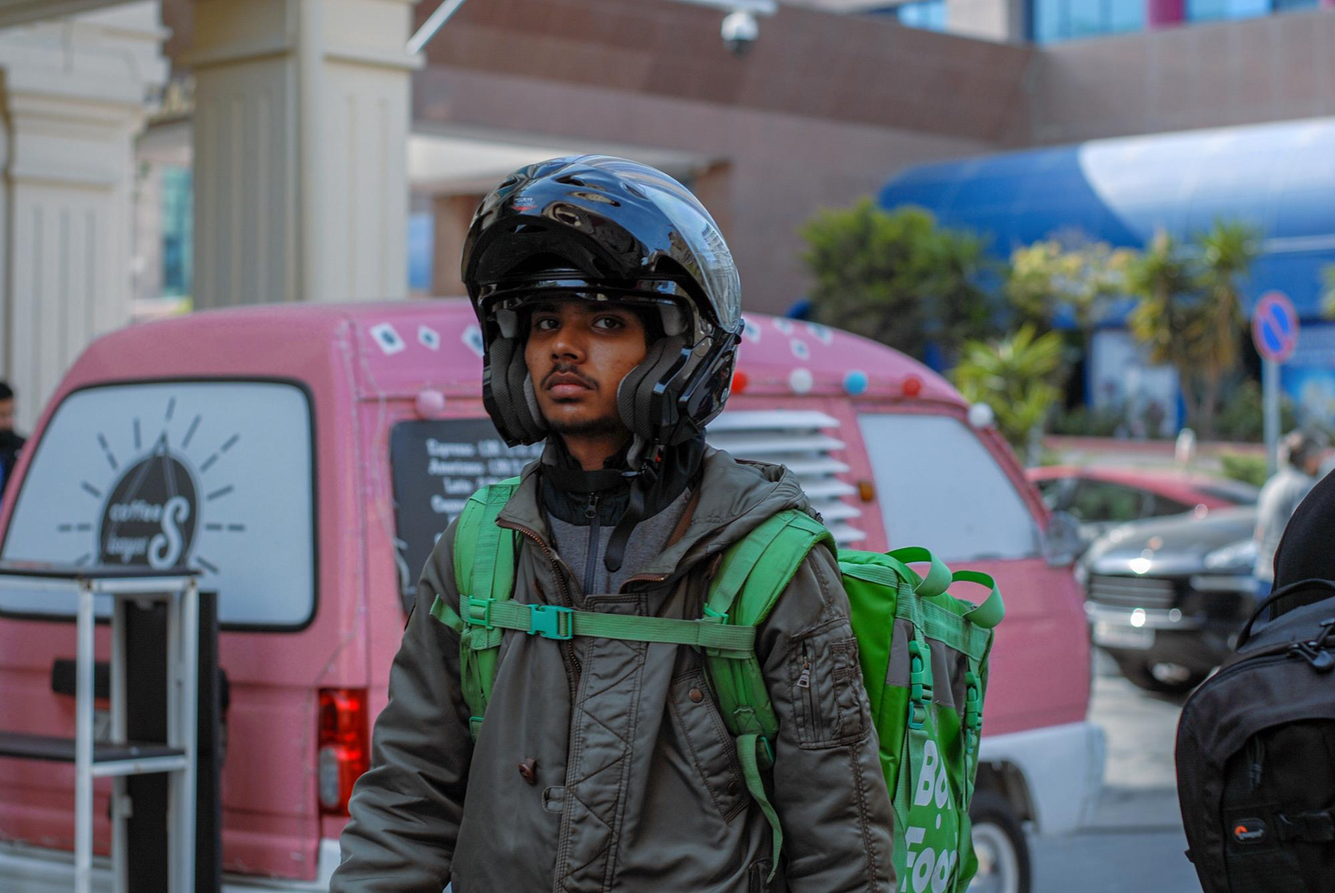helmet: (457, 151, 746, 496)
